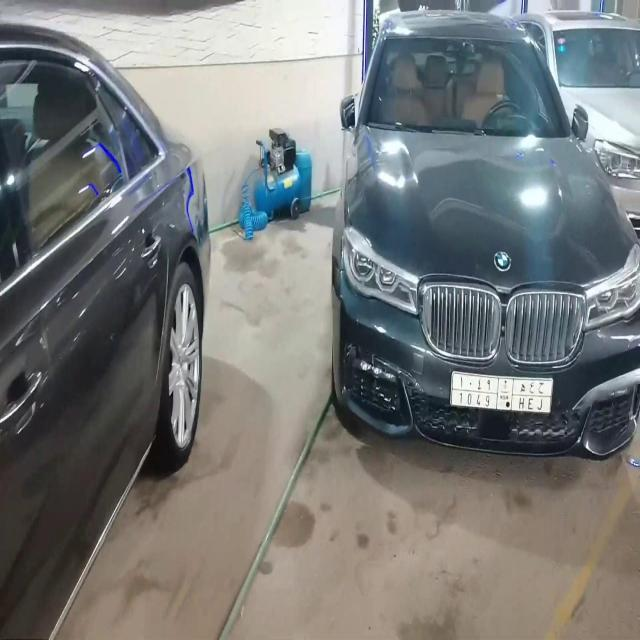license_plate: (444, 366, 556, 418)
